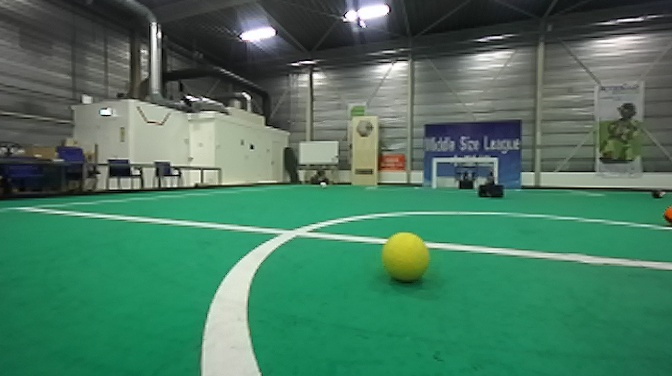ball: (379, 232, 436, 284), (651, 187, 665, 200), (318, 181, 327, 189)
goal: (429, 155, 501, 190)
robot: (477, 163, 505, 200), (453, 163, 479, 191)
